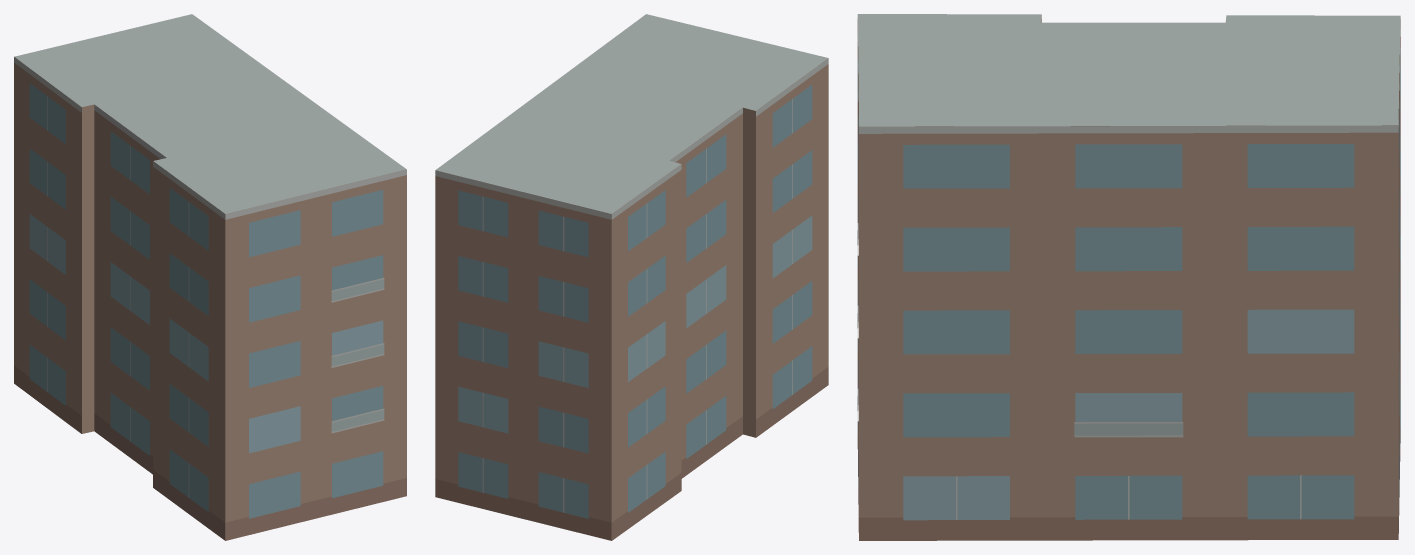
File: survey-upis-32822157.glb
3 renders of one model, left to right at view 1: azimuth 30°, elevation 25°; view 2: azimuth 150°, elevation 25°; view 3: azimuth 270°, elevation 25°, orthographic. The views are drawn at different scales.
Visible parts, largest first — view 1: survey-upis-32822157.tmp; view 2: survey-upis-32822157.tmp; view 3: survey-upis-32822157.tmp.
Part boxes in pixels (x1,y1,x2,y2): survey-upis-32822157.tmp: [14, 14, 406, 540]; survey-upis-32822157.tmp: [435, 14, 828, 540]; survey-upis-32822157.tmp: [857, 14, 1400, 540].
Size of the model in its own units: 8.08 by 13.85 by 16.47.
